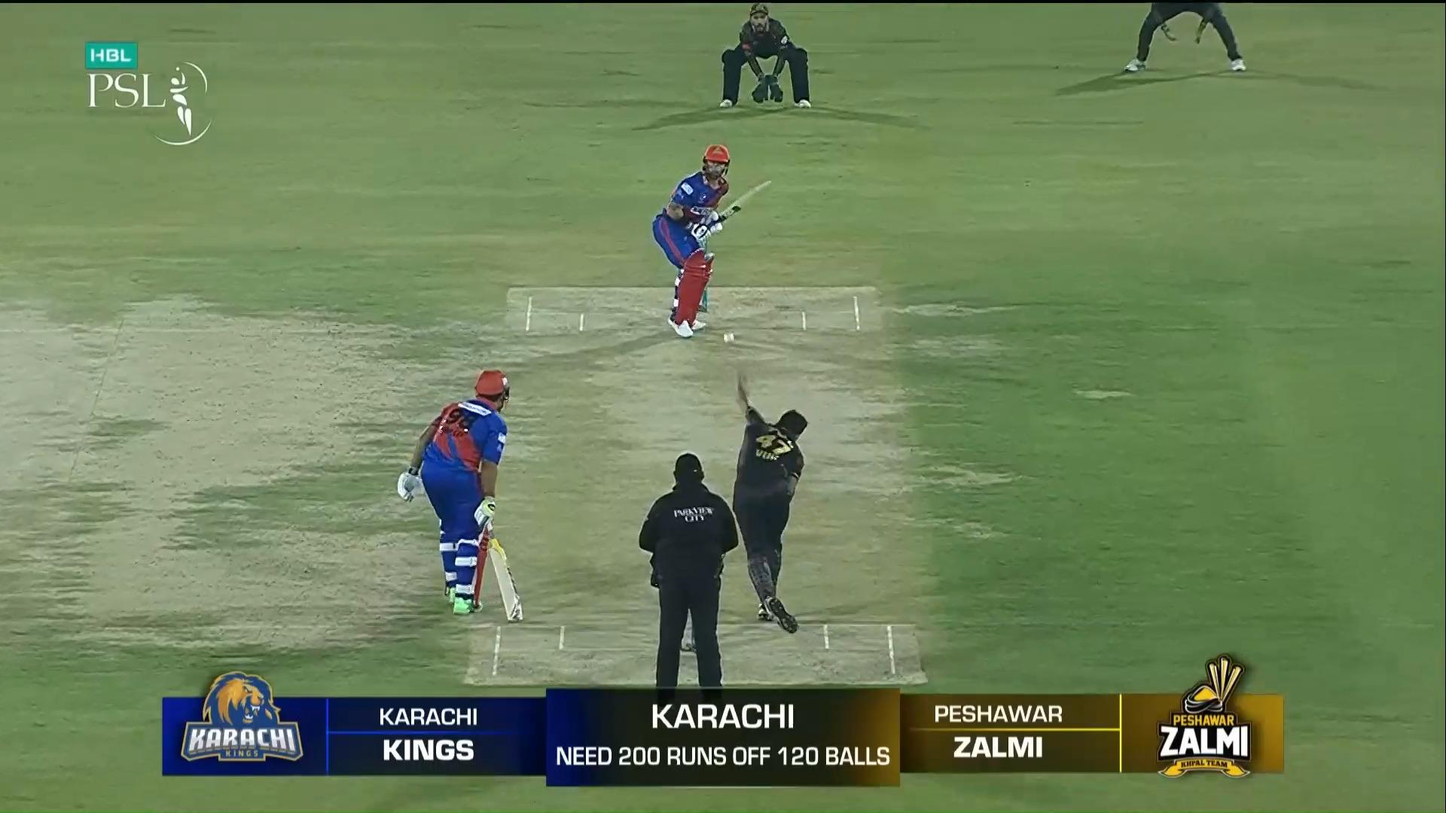batsman: (652, 143, 771, 339)
